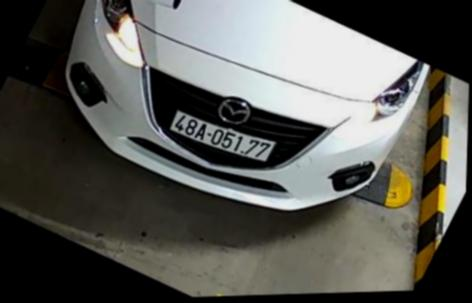License_Plate: (165, 107, 277, 172)
